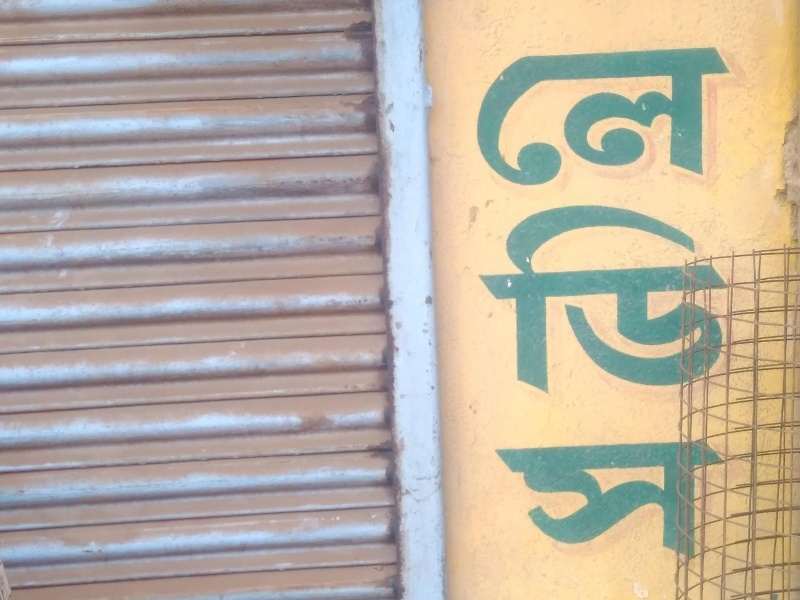text: (481, 44, 496, 560), (497, 44, 512, 560), (513, 44, 528, 560), (529, 44, 544, 560), (545, 44, 560, 560), (561, 44, 576, 560), (577, 44, 592, 560), (593, 44, 608, 560), (609, 44, 624, 560), (625, 44, 640, 560), (641, 44, 656, 560), (657, 44, 672, 560), (673, 44, 688, 560), (689, 44, 704, 560), (705, 44, 720, 560), (721, 44, 729, 560), (476, 44, 480, 560)
